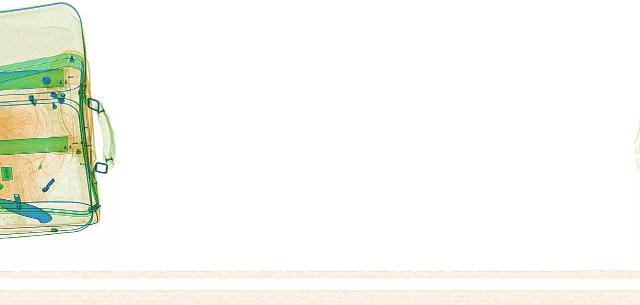Knife: (0, 198, 67, 225)
